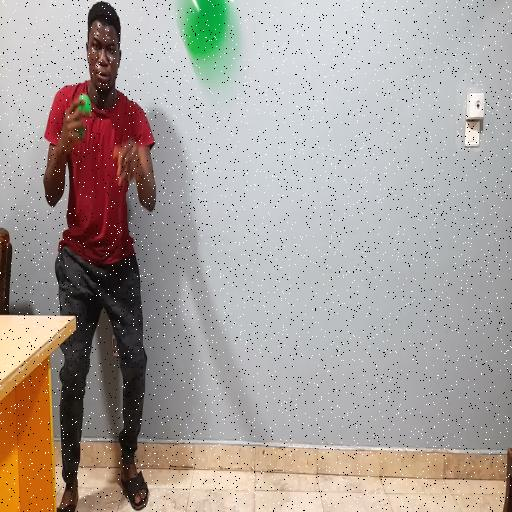plastic-ball: (173, 0, 245, 98)
